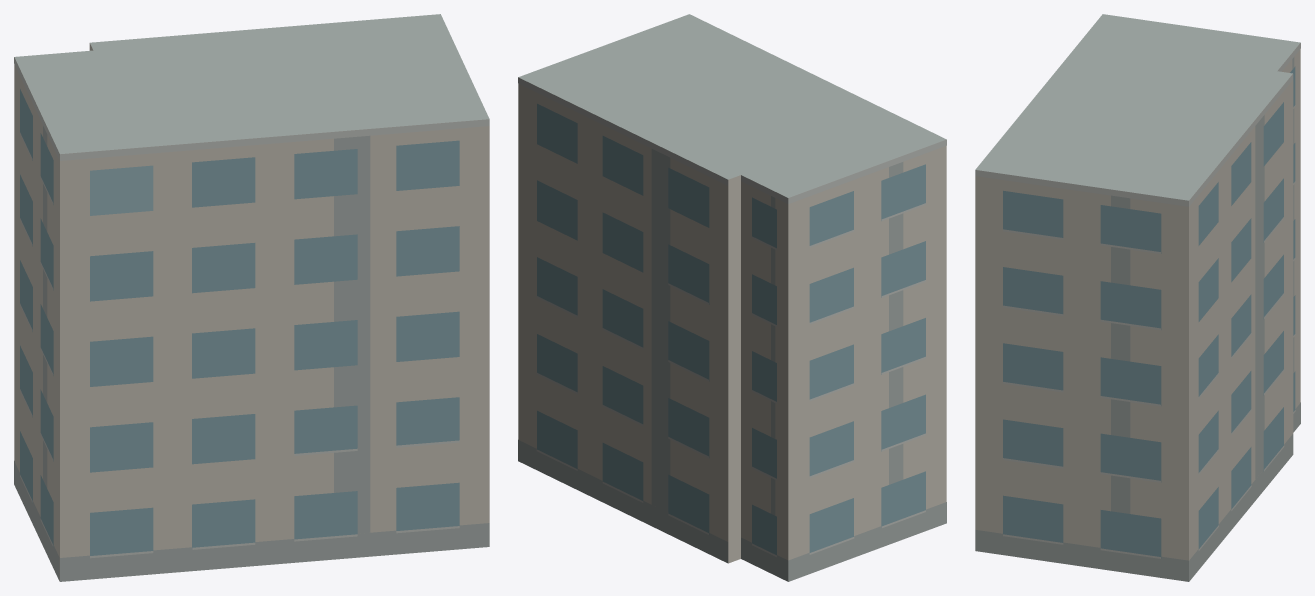
Rendered from survey-upis-32917258.glb.
3 views of the same model, side by side, from view 1: azimuth 30°, elevation 25°; view 2: azimuth 150°, elevation 25°; view 3: azimuth 270°, elevation 25° (orthographic). The views are drawn at different scales.
Parts seen in each view (by area): view 1: survey-upis-32917258.tmp; view 2: survey-upis-32917258.tmp; view 3: survey-upis-32917258.tmp.
Part boxes in pixels (<box>): survey-upis-32917258.tmp: <box>14,14,489,581</box>; survey-upis-32917258.tmp: <box>518,14,946,581</box>; survey-upis-32917258.tmp: <box>975,14,1300,581</box>.
Size of the model in its own units: 15.98 by 15.2 by 11.78.
